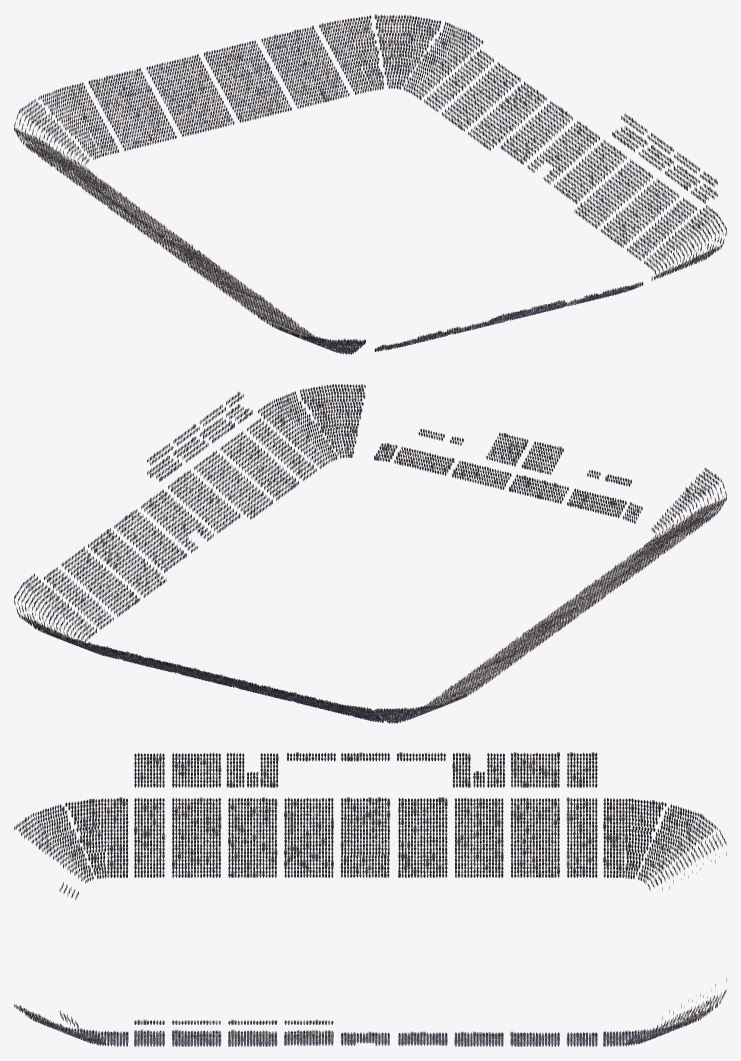
The model's file is People_my.fbx.
The picture shows the model from 3 angles, top to bottom: view 1: azimuth 30°, elevation 25°; view 2: azimuth 150°, elevation 25°; view 3: azimuth 270°, elevation 25°; orthographic projection. The views are drawn at different scales.
Visible parts, largest first — view 1: _People; view 2: _People; view 3: _People.
Boxes of the visible parts, x1=… form: _People: x1=14, y1=14, x2=726, y2=354; _People: x1=14, y1=384, x2=726, y2=723; _People: x1=14, y1=752, x2=726, y2=1046.
Bounding box in the file's own units: 126 × 150 × 18.8.
